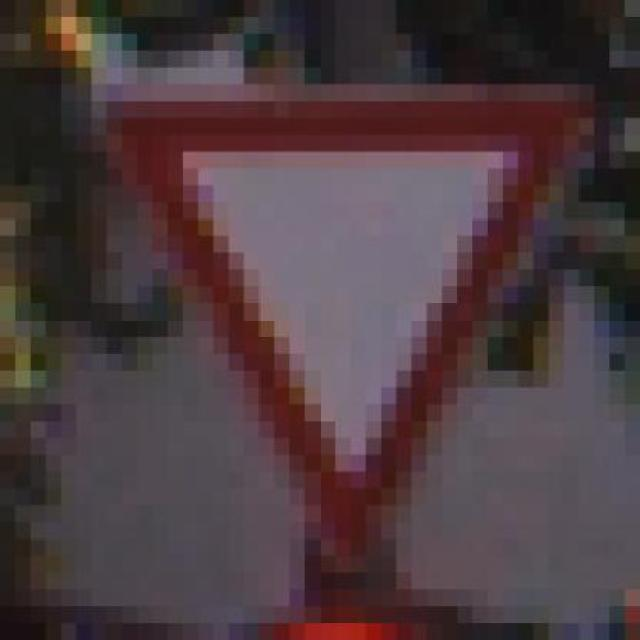Give Way: (74, 52, 592, 576)
